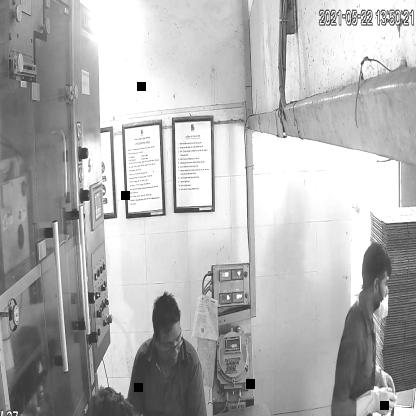goggles: (148, 327, 186, 357)
